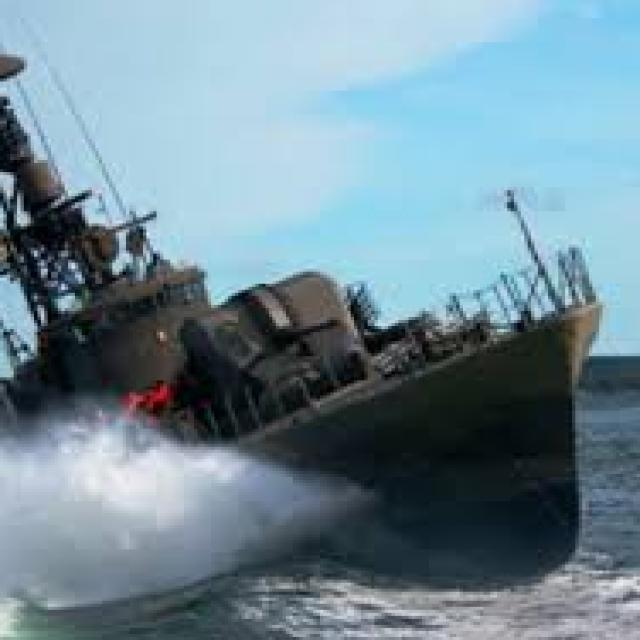navalvessels: (0, 0, 616, 571)
